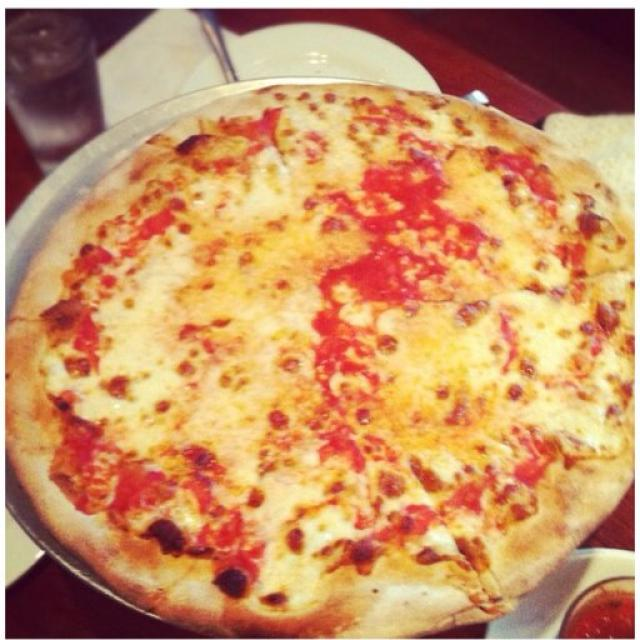Pizza: (8, 86, 632, 638)
